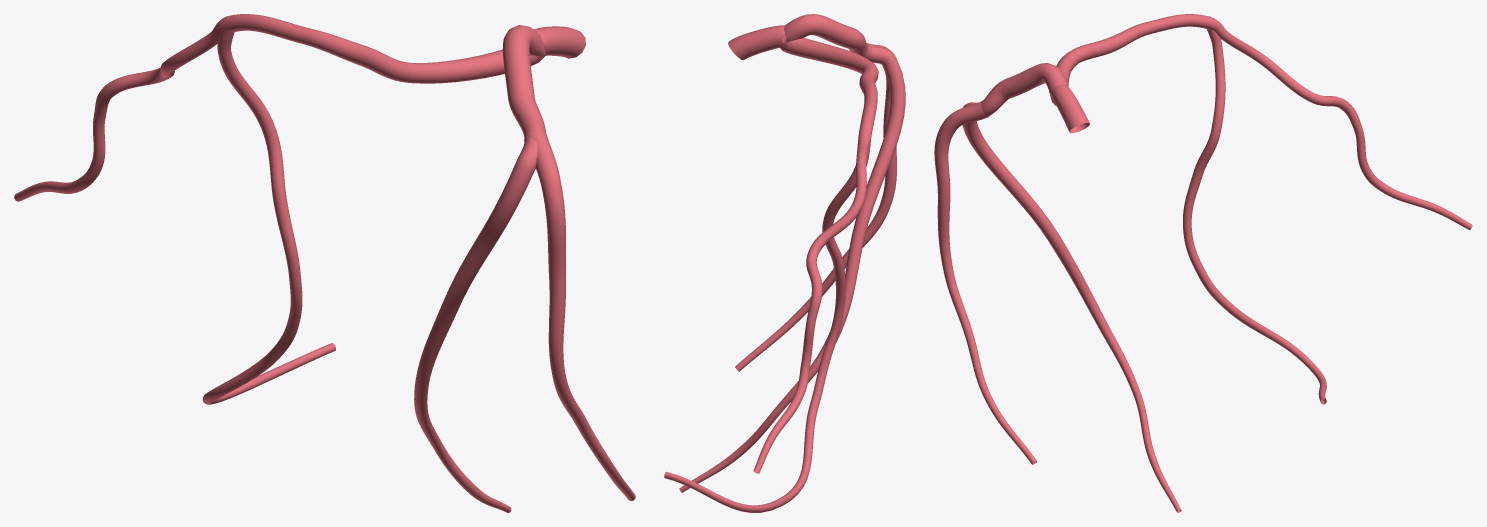
3 renders of one model, left to right at view 1: azimuth 30°, elevation 25°; view 2: azimuth 150°, elevation 25°; view 3: azimuth 270°, elevation 25°, orthographic. The views are drawn at different scales.
Parts seen in each view (by area): view 1: ZA_ba5d53c7a95e9a0e; view 2: ZA_ba5d53c7a95e9a0e; view 3: ZA_ba5d53c7a95e9a0e.
Boxes of the visible parts, bbox=[...] form: ZA_ba5d53c7a95e9a0e: bbox=[14, 14, 635, 512]; ZA_ba5d53c7a95e9a0e: bbox=[664, 14, 905, 512]; ZA_ba5d53c7a95e9a0e: bbox=[934, 14, 1472, 512].
Size of the model in its own units: 0.022 by 0.0365 by 0.0424.
